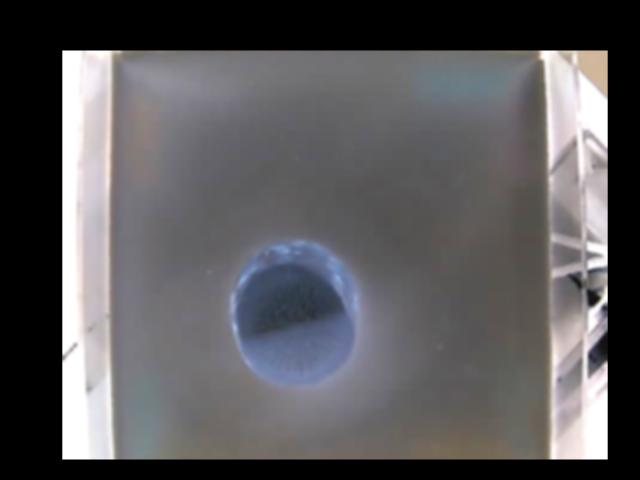Mooli: (230, 237, 355, 380)
